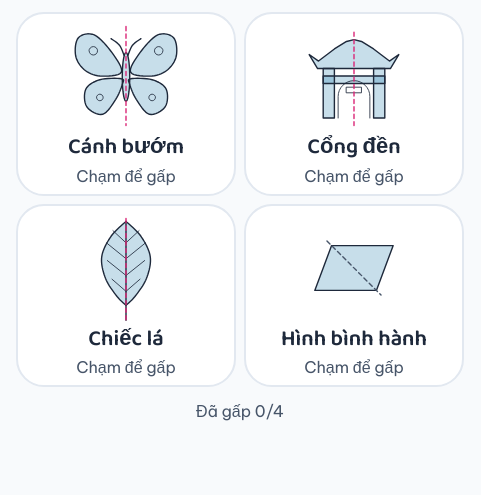
Test: the touchable pictures › fold cards fold one card at a time and are done when all are
Expected: the text "Đã gấp 0/4" is shown, [196,399,284,423]
What coordinates should you click on to do the following:
click the button "Cánh bướm Chạm để gấp"
I would click on:
 (126, 104)
Its box is [16,12,236,196].
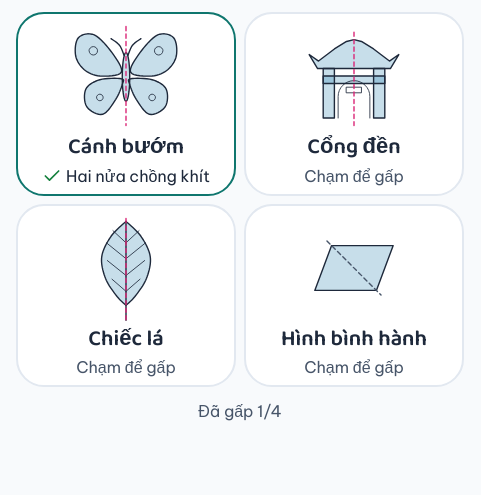
What coordinates should you click on to do the following:
click the button "Cổng đền Chạm để gấp"
I would click on:
 (354, 104)
Its box is [244,12,464,196].
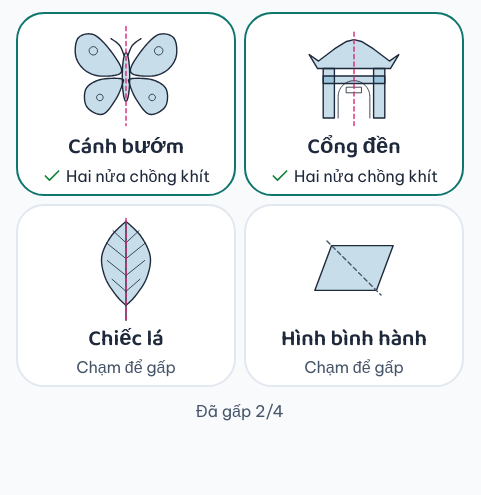
What coordinates should you click on to do the following:
click the button "Chiếc lá Chạm để gấp"
I would click on:
 (126, 295)
Its box is [16,204,236,387].
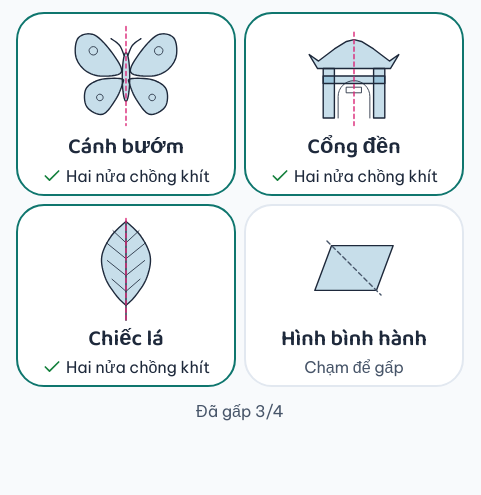
What coordinates should you click on to do the following:
click the button "Hình bình hành Chạm để gấp"
I would click on:
 (354, 295)
Its box is [244,204,464,387].
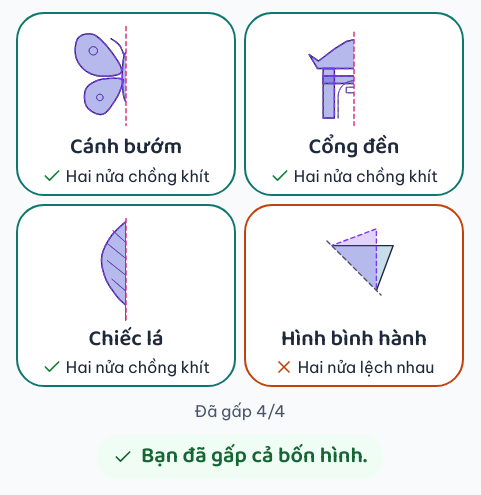
Now the text "Đã gấp 4/4" is shown, box [194,399,286,423]
Now the text "Bạn đã gấp cả bốn hình." is shown, box [97,435,383,478]
